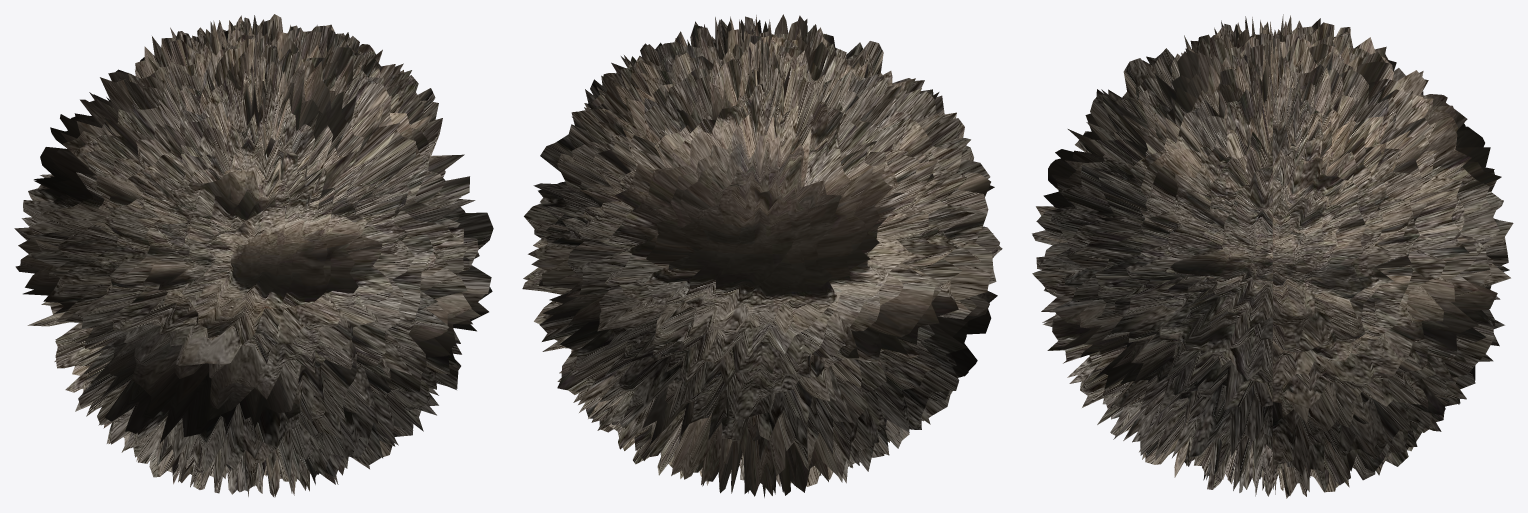
File: asteroid2.obj
3 views of the same model, side by side, from view 1: azimuth 30°, elevation 25°; view 2: azimuth 150°, elevation 25°; view 3: azimuth 270°, elevation 25° (orthographic).
Bounding box in the file's own units: 2.36 × 2.4 × 2.35.
Materials: 1 (1 with a texture image).
